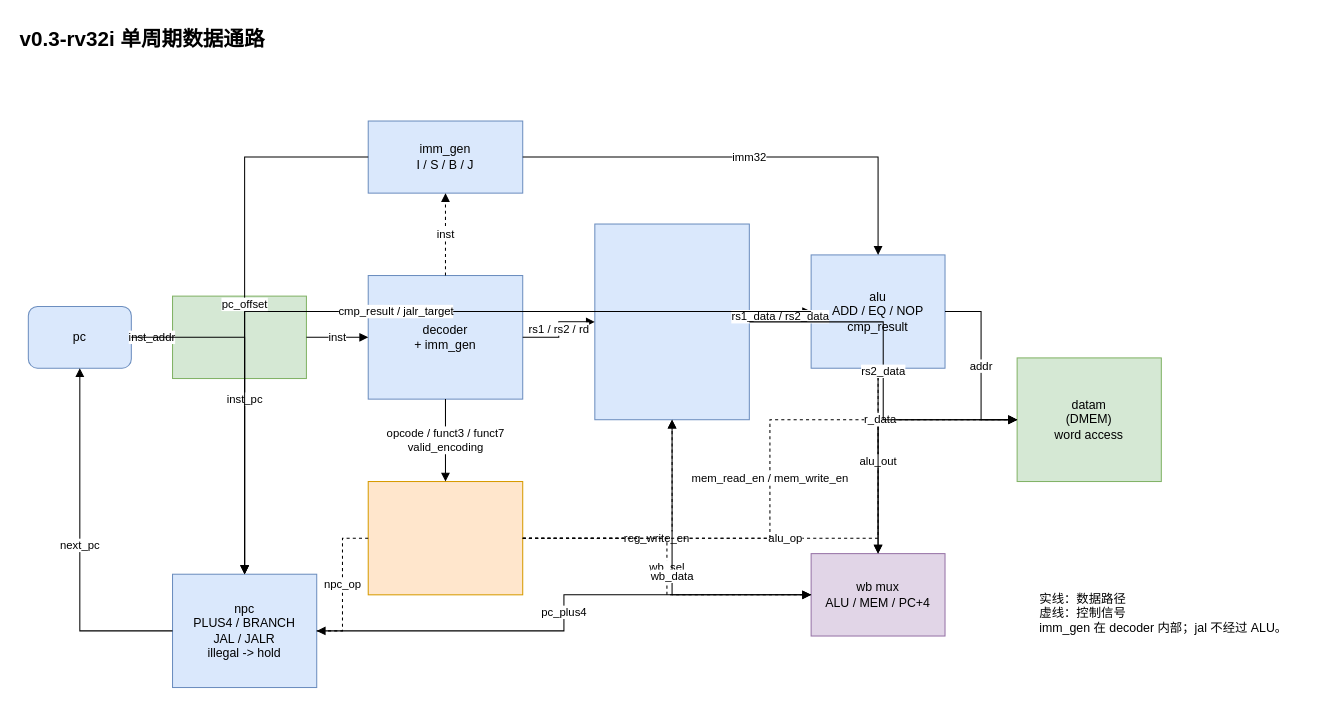
Image size: 1323x706. Some labels were removed from this diagram. The shapes that lost their labels are listed below. From the top down, each one's centre as x and y in pixels, then its label:
At point (238, 337): "instm (IMEM)".
At point (671, 321): "regfile 32 x 32 x0 = 0".
At point (445, 537): "ctrl + halt / halt_cause".
